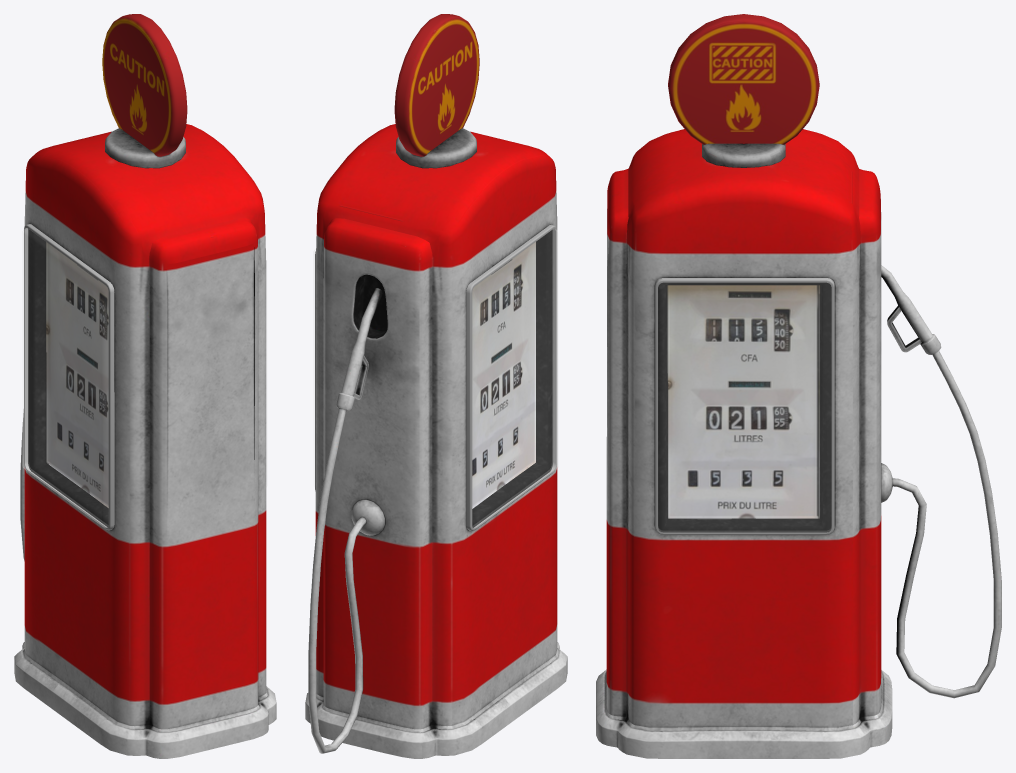
The model's file is gas_station_pump.glb.
3 renders of one model, left to right at view 1: azimuth 30°, elevation 25°; view 2: azimuth 150°, elevation 25°; view 3: azimuth 270°, elevation 25°, orthographic. The views are drawn at different scales.
Visible parts, largest first — view 1: Box172, defaultMaterial (×2); view 2: Box172, defaultMaterial (×2); view 3: Box172, defaultMaterial (×2).
Part boxes in pixels (x1,y1,x2,y2): Box172: [14, 14, 276, 758]; defaultMaterial (×2): [22, 224, 267, 530]; Box172: [305, 14, 567, 758]; defaultMaterial (×2): [313, 224, 558, 530]; Box172: [596, 14, 1001, 758]; defaultMaterial (×2): [655, 278, 834, 534].
Bounding box in the file's own units: 0.000411 × 0.00159 × 0.000836.
3 materials, 3 textured.
